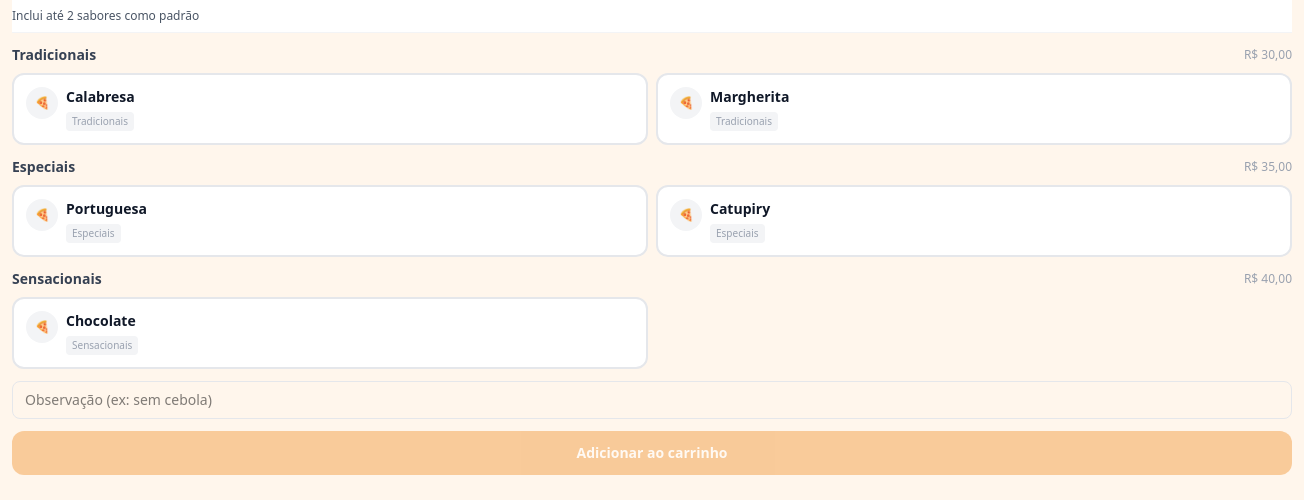
Test: FlavorSelector — US2: labels claros (2 sabores padrão / 3º + R$ 5,00) › 1 sabor: "1 sabor • até 2 no padrão"
What coordinates should you click on to do the following:
click the button "🍕 Calabresa Tradicionais"
I would click on:
 (42, 103)
Its box is [12,73,648,145].
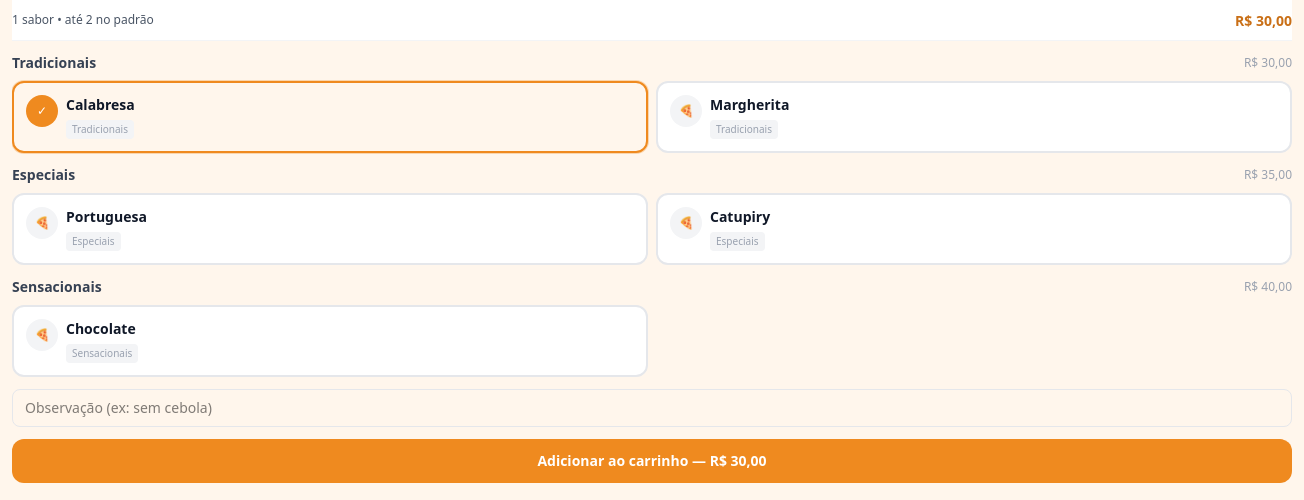
Expected: the text "1 sabor • até 2 no padrão" is shown, [12,12,154,28]
